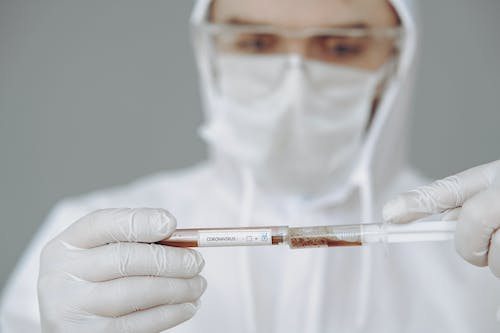blood: (152, 224, 289, 246), (289, 224, 363, 251)
